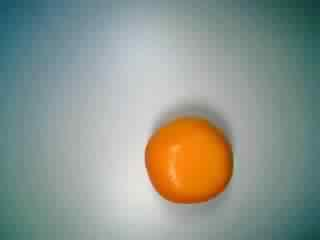orange: (141, 111, 237, 207)
